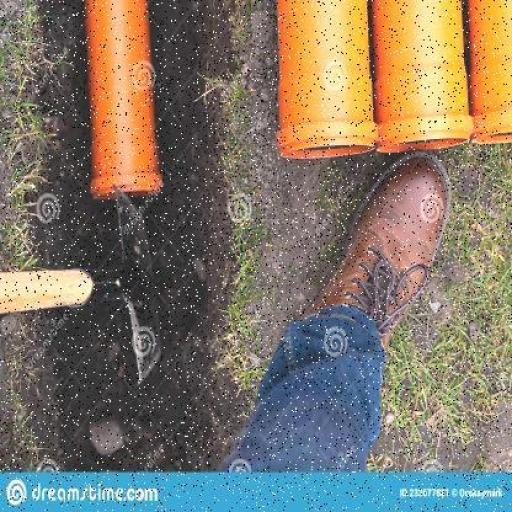safety_shoe: (293, 162, 447, 367)
